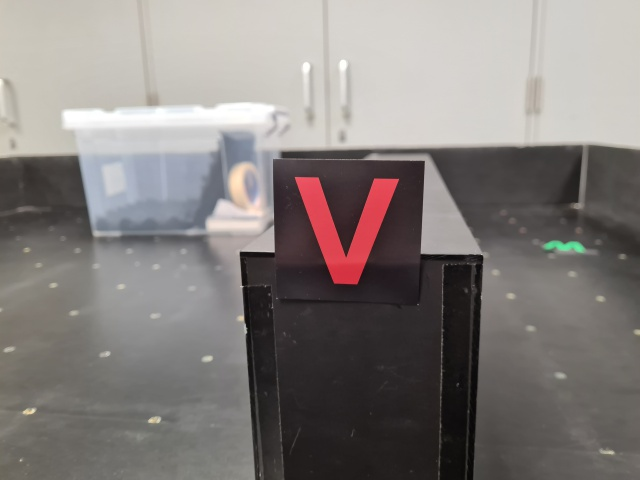alphabet_v: (272, 159, 426, 305)
